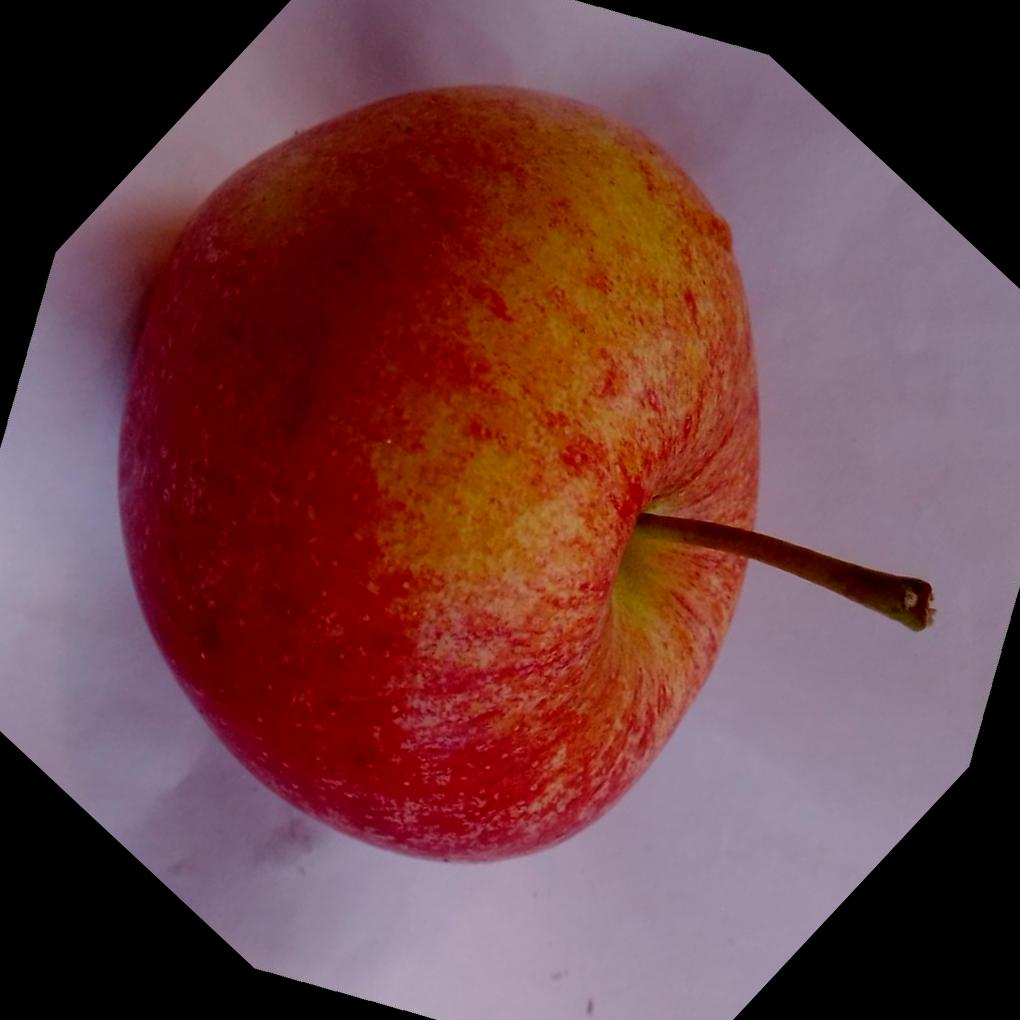FreshGuava: (116, 80, 933, 865)
